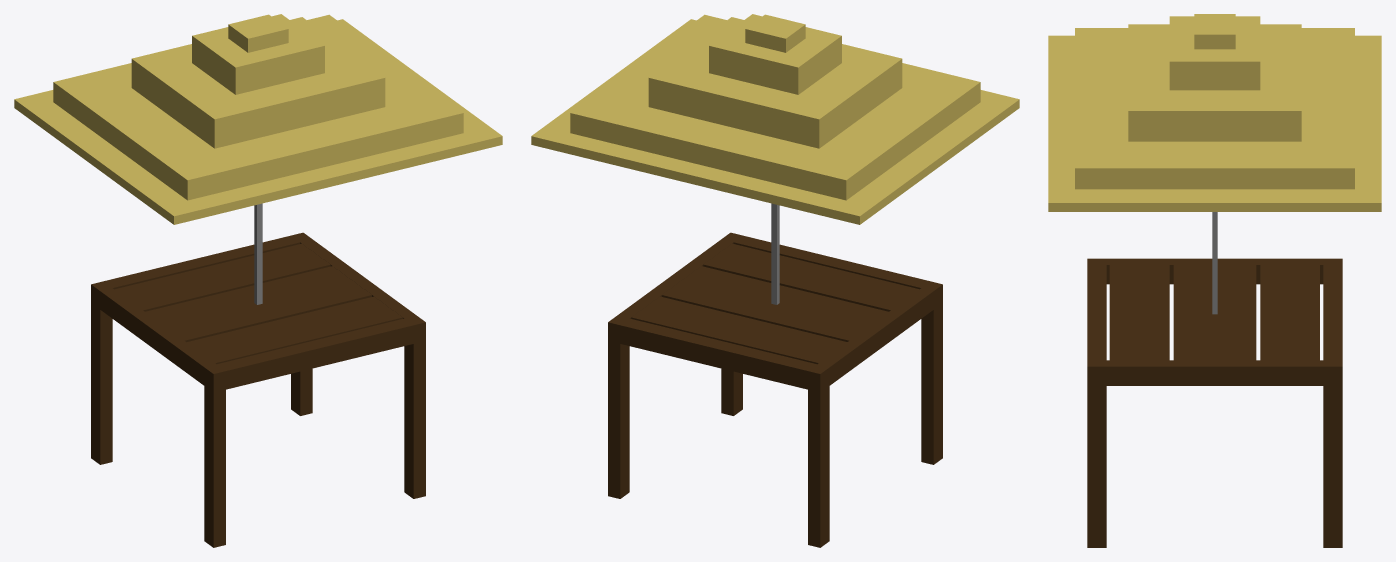
Rendered from table2.fbx.
3 renders of one model, left to right at view 1: azimuth 30°, elevation 25°; view 2: azimuth 150°, elevation 25°; view 3: azimuth 270°, elevation 25°, orthographic. The views are drawn at different scales.
Visible parts, largest first — view 1: table2; view 2: table2; view 3: table2.
Part boxes in pixels (<box>): table2: <box>14,14,502,547</box>; table2: <box>531,14,1019,547</box>; table2: <box>1048,14,1381,547</box>.
Bounding box in the file's own units: 371 × 486 × 313.
